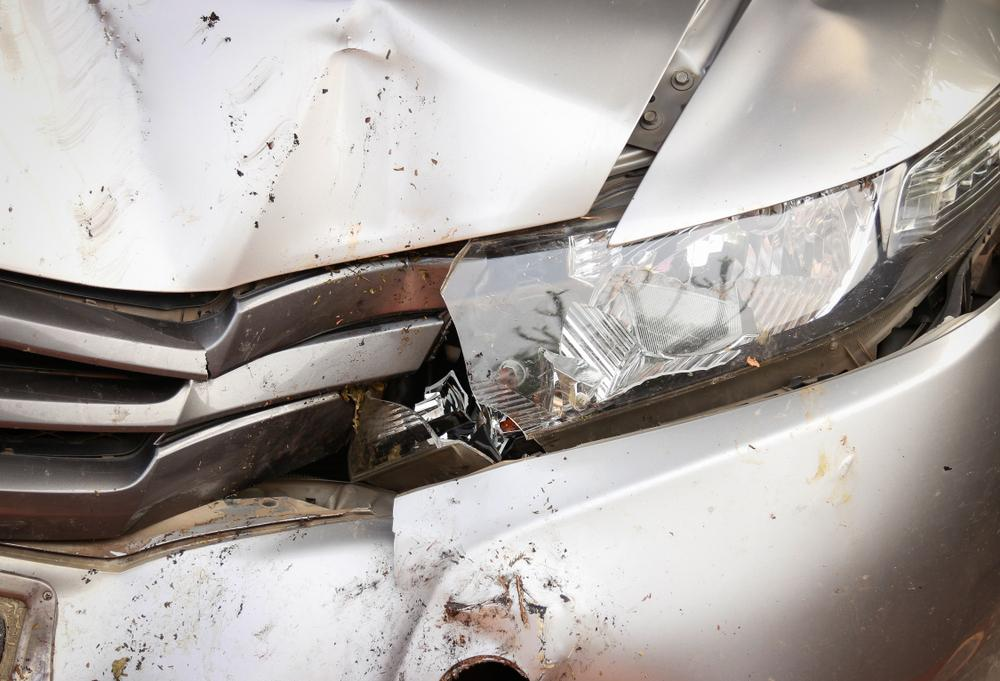crack: (388, 495, 400, 587), (204, 347, 214, 379)
dent: (234, 0, 475, 281)
lamp broken: (453, 83, 1000, 447)
scratch: (0, 0, 146, 262)
